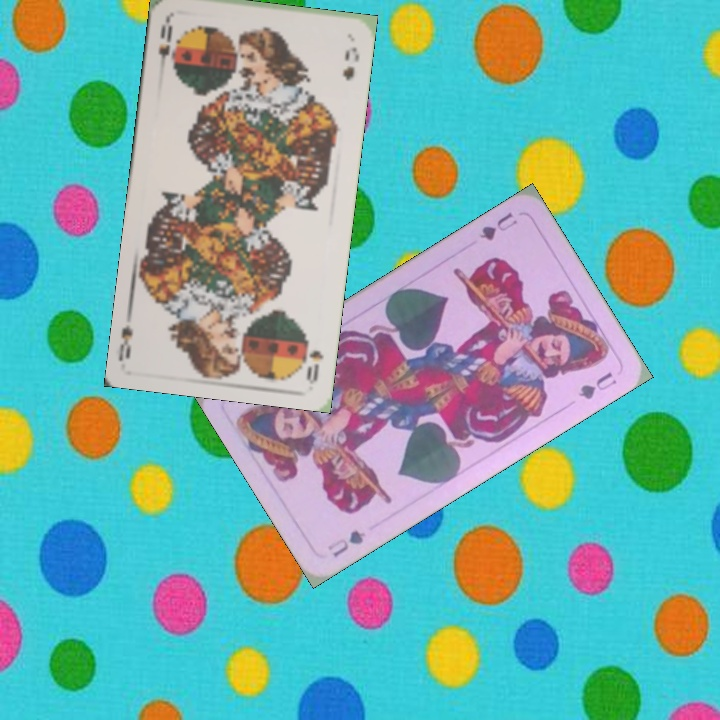GU: (475, 208, 520, 244), (323, 526, 369, 560)
SO: (154, 15, 175, 74), (302, 346, 326, 385)
